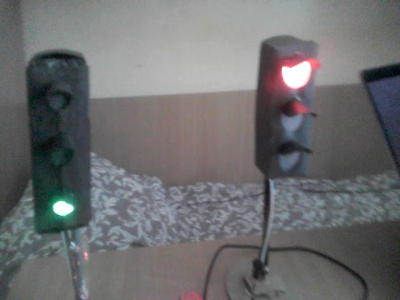trafficlight_green: (26, 57, 91, 225)
trafficlight_red: (269, 41, 319, 176)
